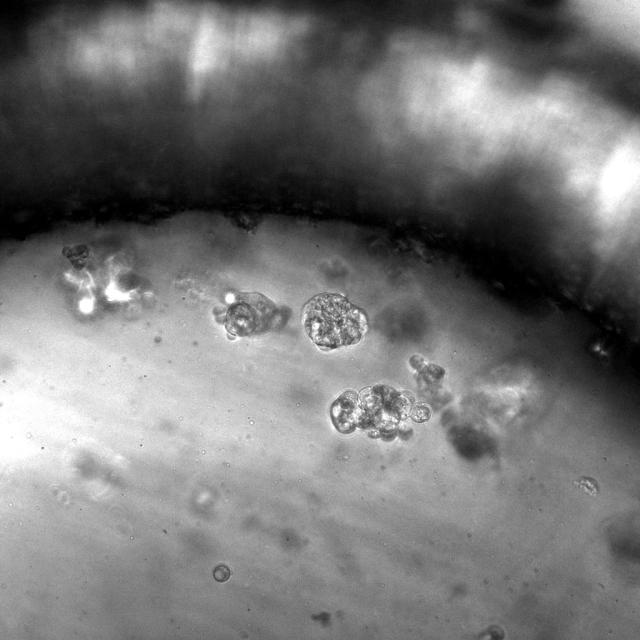organoid: (409, 354, 542, 460), (62, 235, 154, 319), (330, 383, 431, 441), (212, 292, 291, 341), (302, 292, 367, 350), (62, 244, 89, 269), (229, 211, 259, 233), (574, 476, 599, 495), (478, 624, 505, 639), (212, 563, 231, 582)
